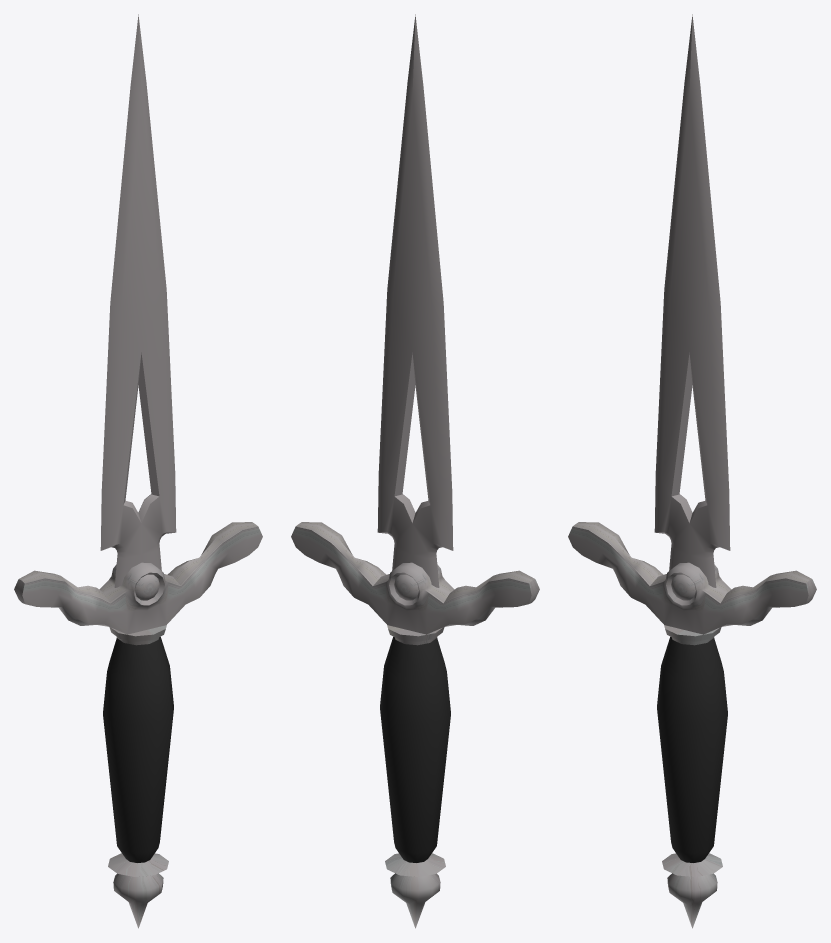
File: SM_Blockout_Sword_1.fbx
3 views of the same model, side by side, from view 1: azimuth 30°, elevation 25°; view 2: azimuth 150°, elevation 25°; view 3: azimuth 330°, elevation 25° (orthographic).
Visible parts, largest first — view 1: Cylinder.002; view 2: Cylinder.002; view 3: Cylinder.002.
Part boxes in pixels (x1,y1,x2,y2): Cylinder.002: (14, 14, 262, 928); Cylinder.002: (291, 14, 539, 928); Cylinder.002: (568, 14, 816, 928).
Size of the model in its own units: 18.86 by 68.51 by 4.95.
